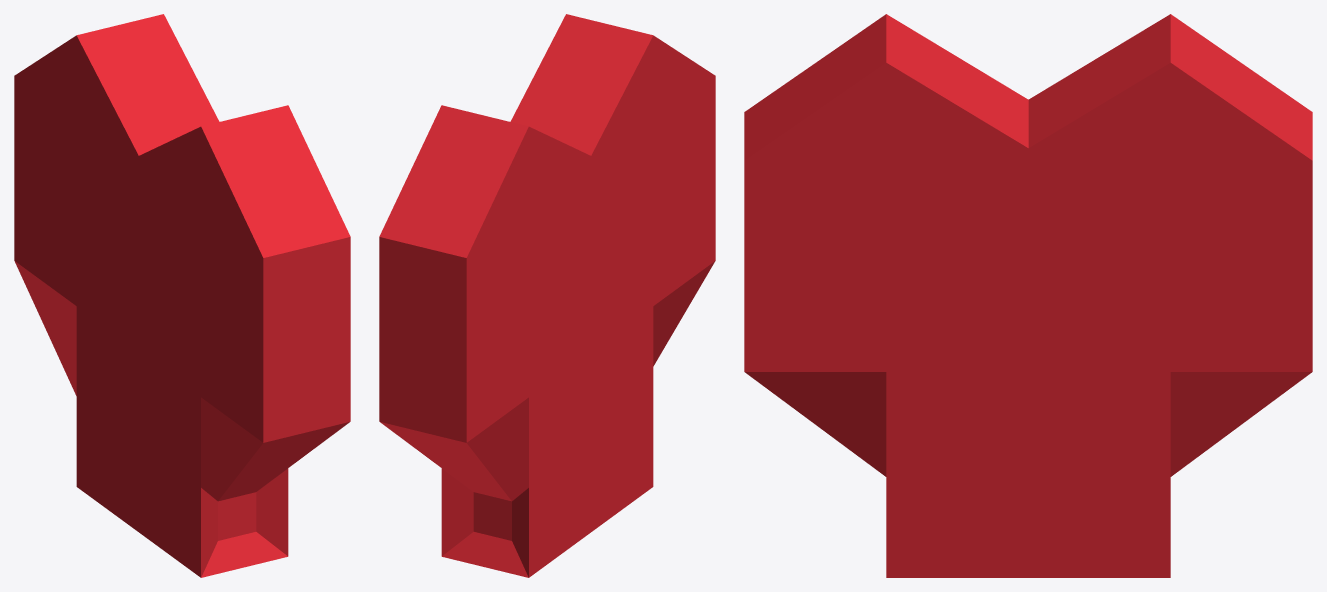
Rendered from heart.fbx.
3 views of the same model, side by side, from view 1: azimuth 30°, elevation 25°; view 2: azimuth 150°, elevation 25°; view 3: azimuth 270°, elevation 25° (orthographic). The views are drawn at different scales.
Parts seen in each view (by area): view 1: Cube; view 2: Cube; view 3: Cube.
Boxes of the visible parts, bbox=[...] form: Cube: bbox=[14, 14, 350, 577]; Cube: bbox=[379, 14, 715, 577]; Cube: bbox=[744, 14, 1312, 577].
Size of the model in its own units: 87.87 by 434 by 434.
